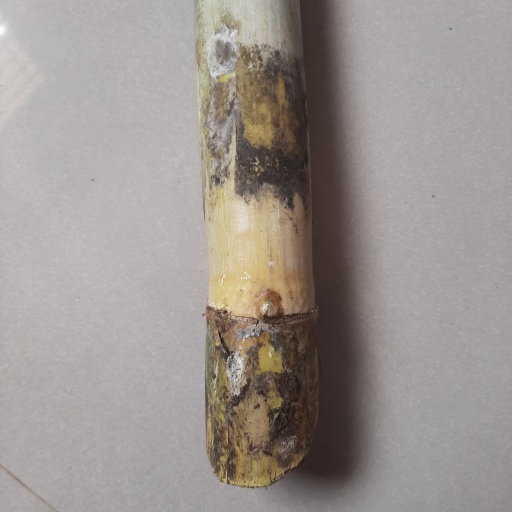Bud: (253, 290, 284, 320)
